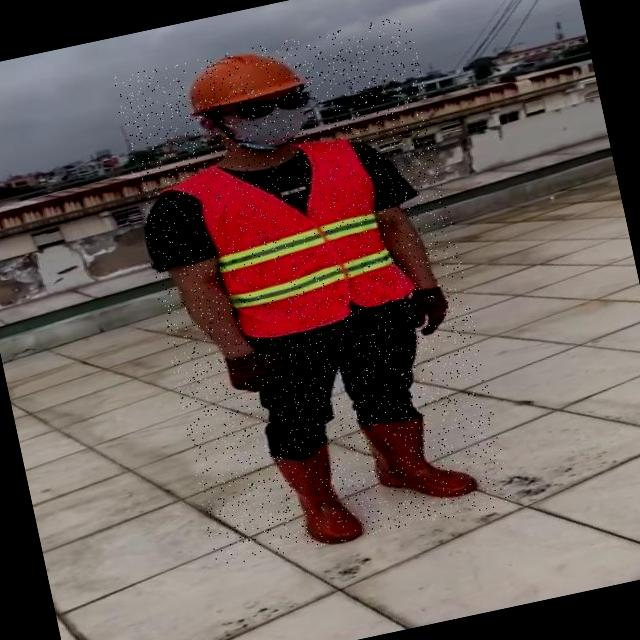boots: (356, 400, 478, 515), (268, 438, 364, 552)
helmet: (162, 37, 311, 122)
vest: (193, 126, 413, 343)
